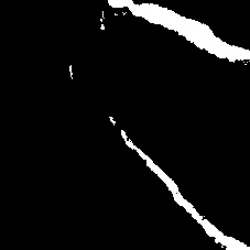crack: (121, 131, 248, 249), (107, 2, 248, 63)
pinhole: (66, 63, 77, 82), (100, 8, 108, 32), (106, 115, 119, 126)
